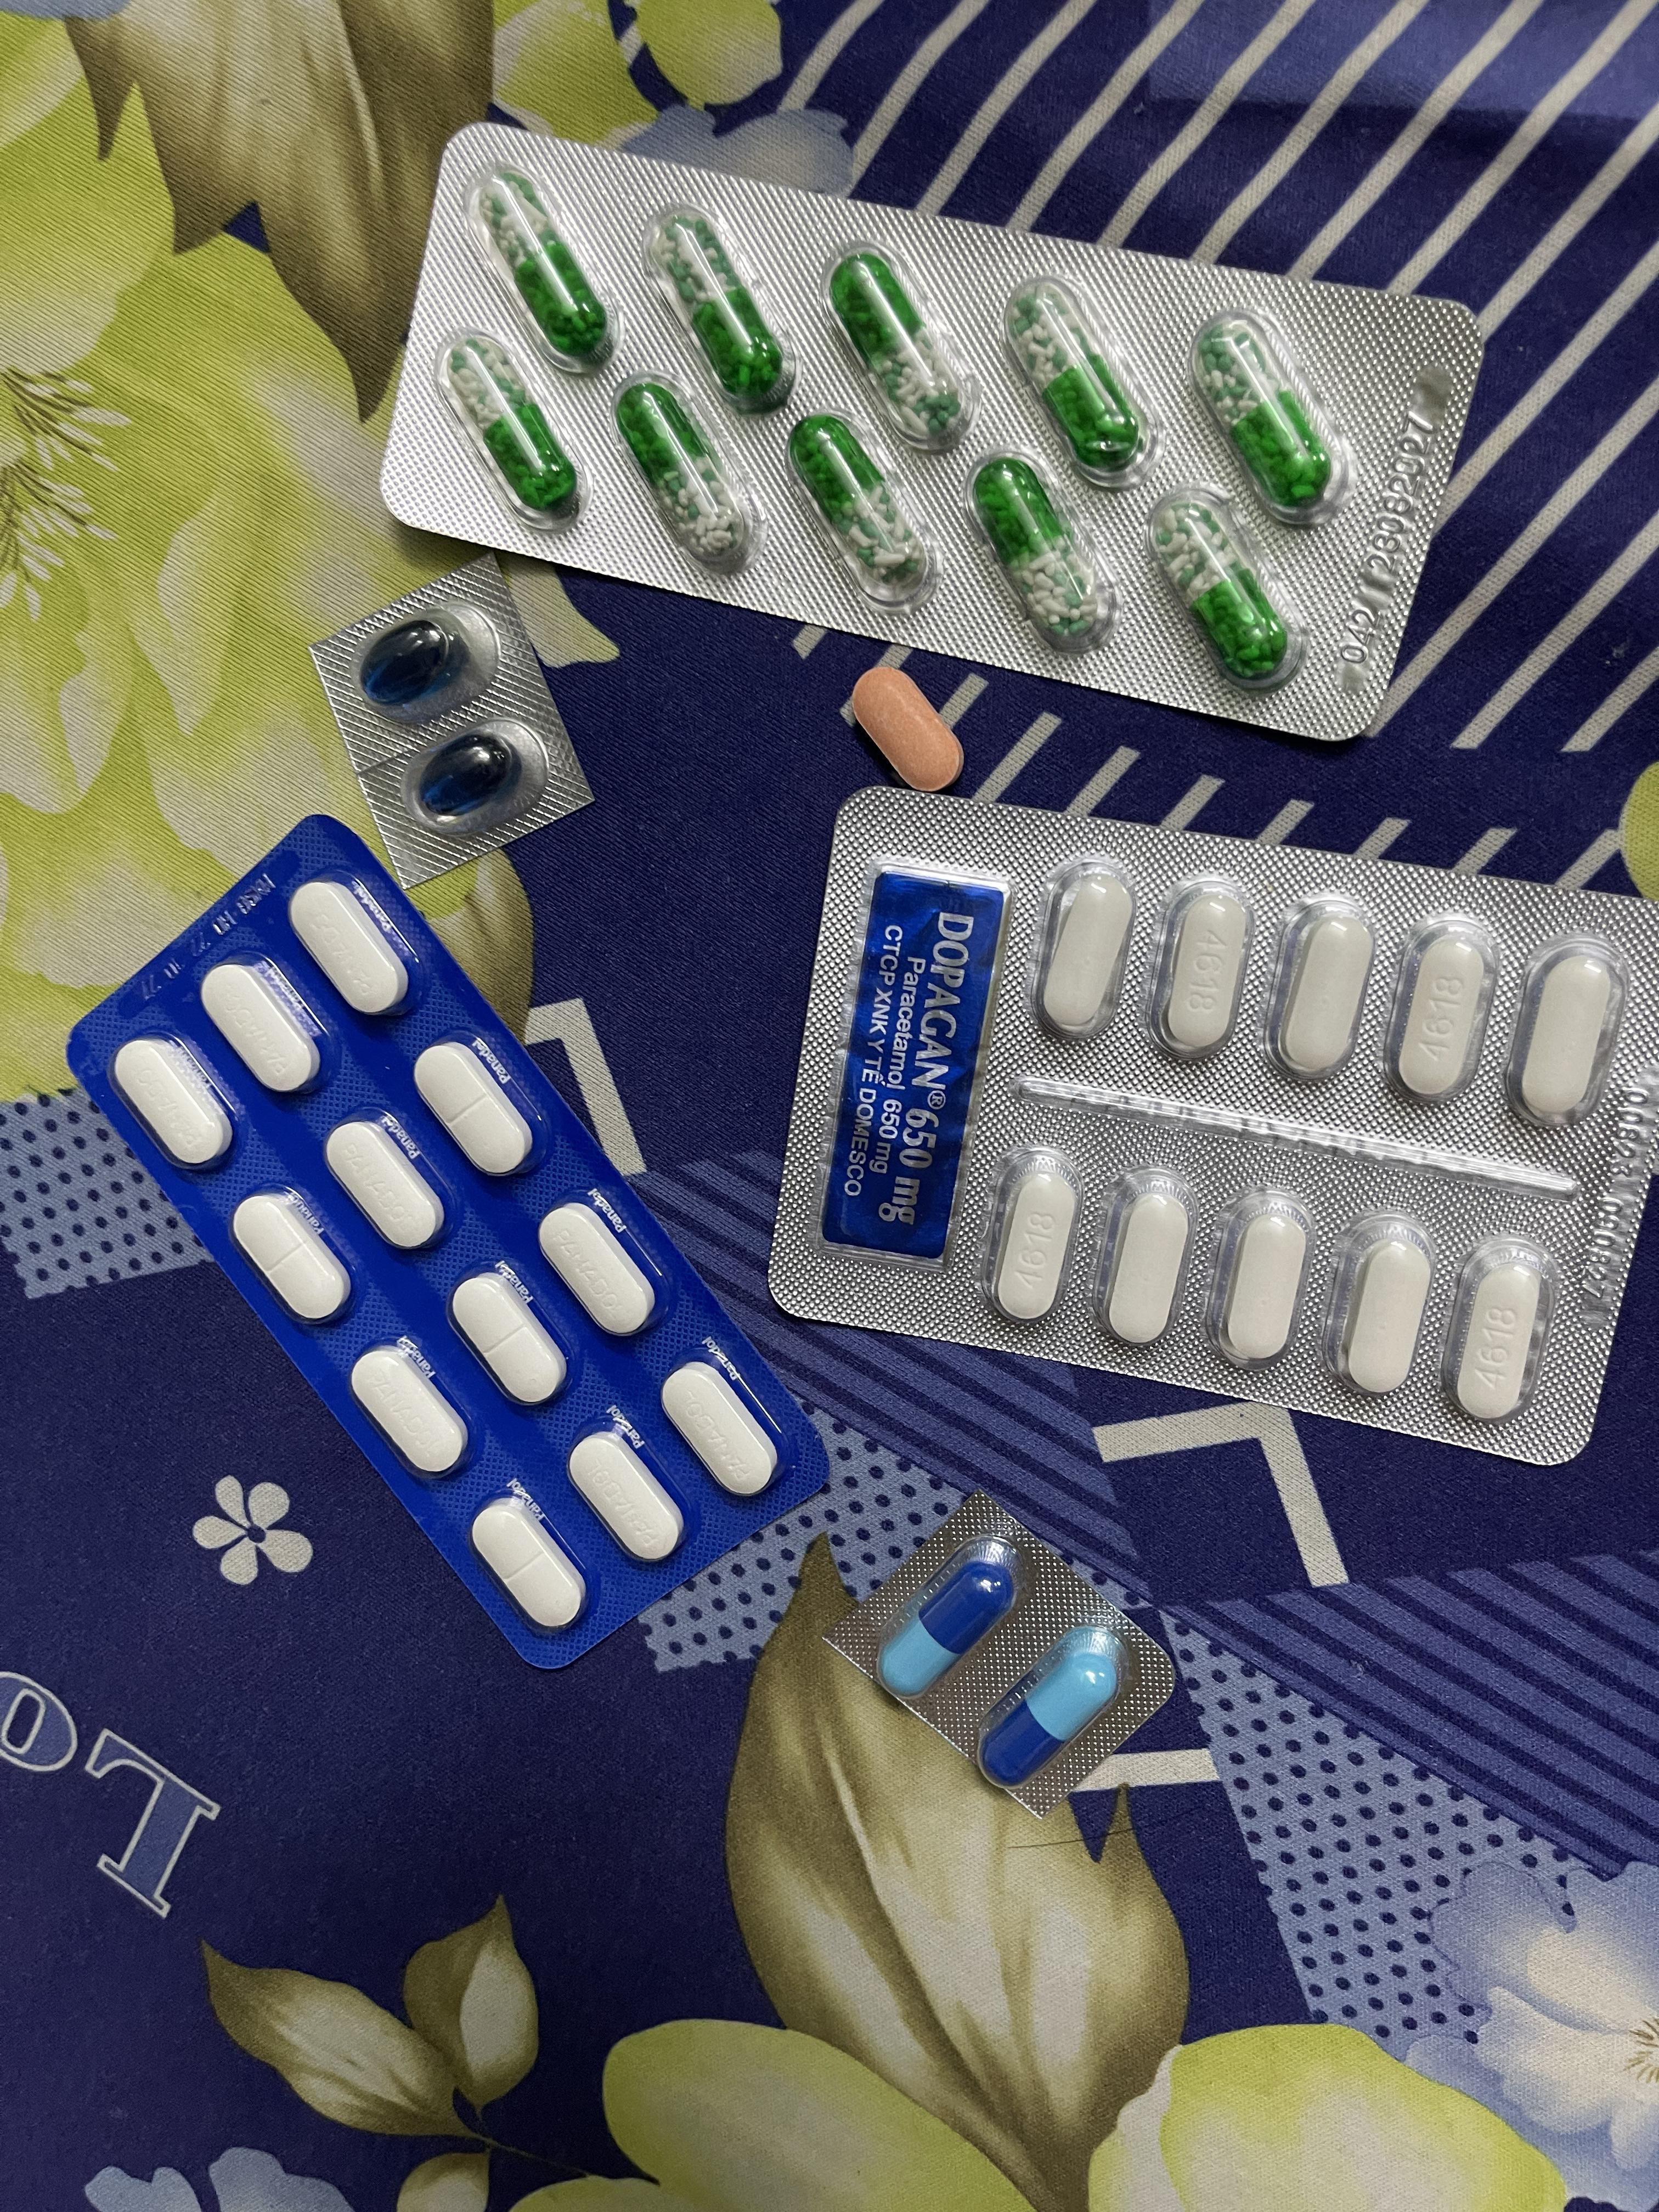Lincomyxin_500mg: (415, 732, 515, 818), (360, 621, 459, 706)
Loratadine_10mg: (852, 668, 964, 791)
Paracetamol_350mg: (537, 1198, 658, 1338), (661, 1362, 780, 1503), (569, 1424, 689, 1564), (201, 960, 325, 1096), (324, 1114, 448, 1249), (449, 1268, 568, 1408), (413, 1042, 535, 1177), (290, 879, 413, 1013), (112, 1037, 233, 1172), (233, 1192, 352, 1325), (351, 1347, 469, 1481), (472, 1496, 588, 1629)
Paracetamol_500mg: (1504, 933, 1626, 1130), (1381, 911, 1500, 1105), (1262, 890, 1381, 1081), (1440, 1235, 1559, 1424), (1321, 1212, 1435, 1400), (1144, 874, 1256, 1060), (1024, 856, 1136, 1043), (1207, 1187, 1320, 1369), (1087, 1166, 1196, 1348), (978, 1144, 1081, 1325)
Paracetamol_650mg: (1192, 311, 1357, 524), (1146, 478, 1310, 688), (427, 328, 588, 540), (1005, 275, 1160, 489), (966, 445, 1118, 653), (646, 200, 790, 414), (783, 410, 934, 613), (610, 369, 756, 573), (837, 253, 964, 439), (481, 173, 607, 357)
pill: (978, 1621, 1130, 1787), (875, 1537, 1031, 1695)
